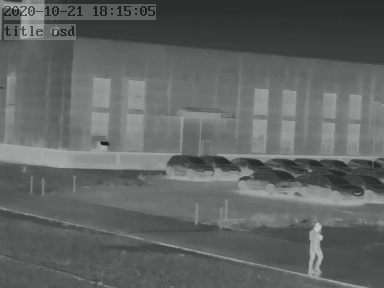person: (308, 220, 325, 271)
vehicle: (303, 173, 358, 201), (241, 169, 304, 193), (165, 153, 212, 179), (204, 153, 242, 177), (349, 173, 381, 200), (232, 155, 270, 171), (262, 155, 300, 171), (347, 156, 379, 170), (317, 156, 346, 170), (296, 156, 324, 169)
